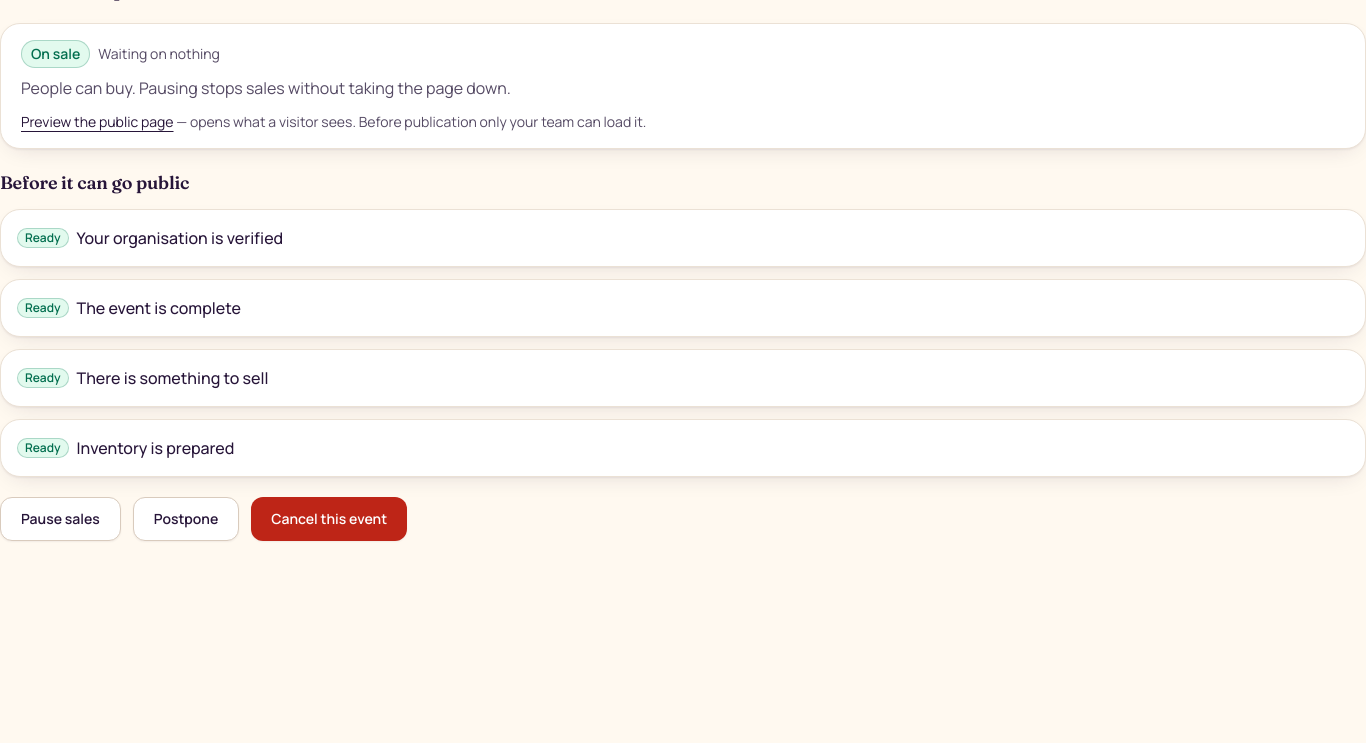
it: cancelling an event › says what cancelling means for bookings made to pay at the venue, from the event’s own figures
Click the button "Cancel this event": (329, 519) [251,497,407,541]
(page scrolled)
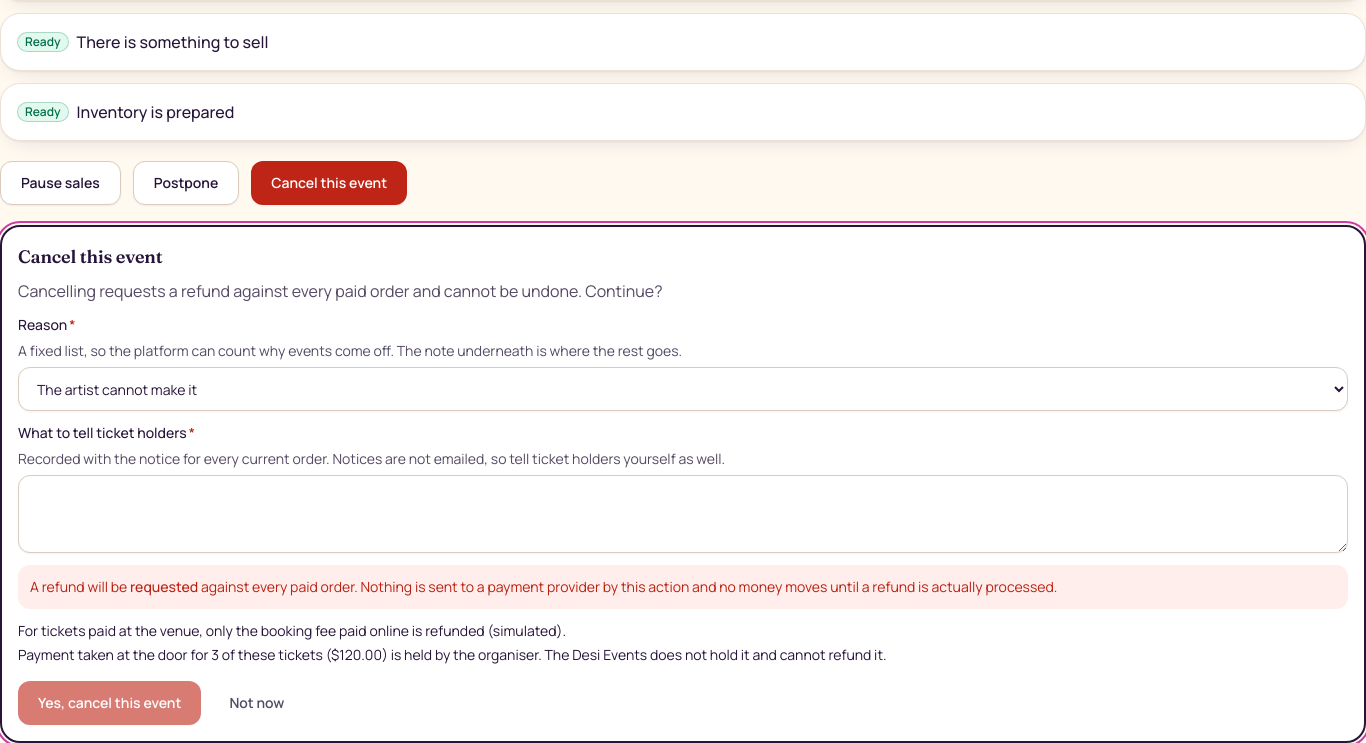
Expected: the text "For tickets paid at the venue, only the booking fee paid online is refunded (simulated)." is shown, [18,621,566,640]
Expected: the text "Payment taken at the door for 3 of these tickets ($120.00) is held by the organiser. The Desi Events does not hold it an" is shown, [18,645,886,664]
